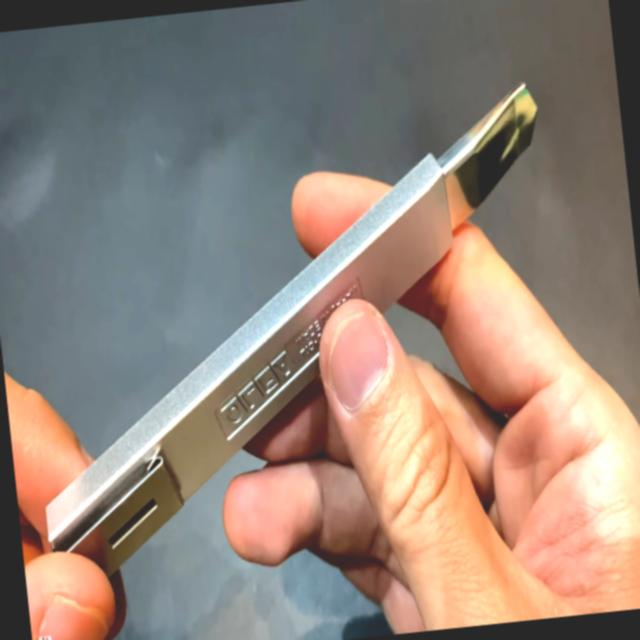cutter: (0, 59, 606, 630)
